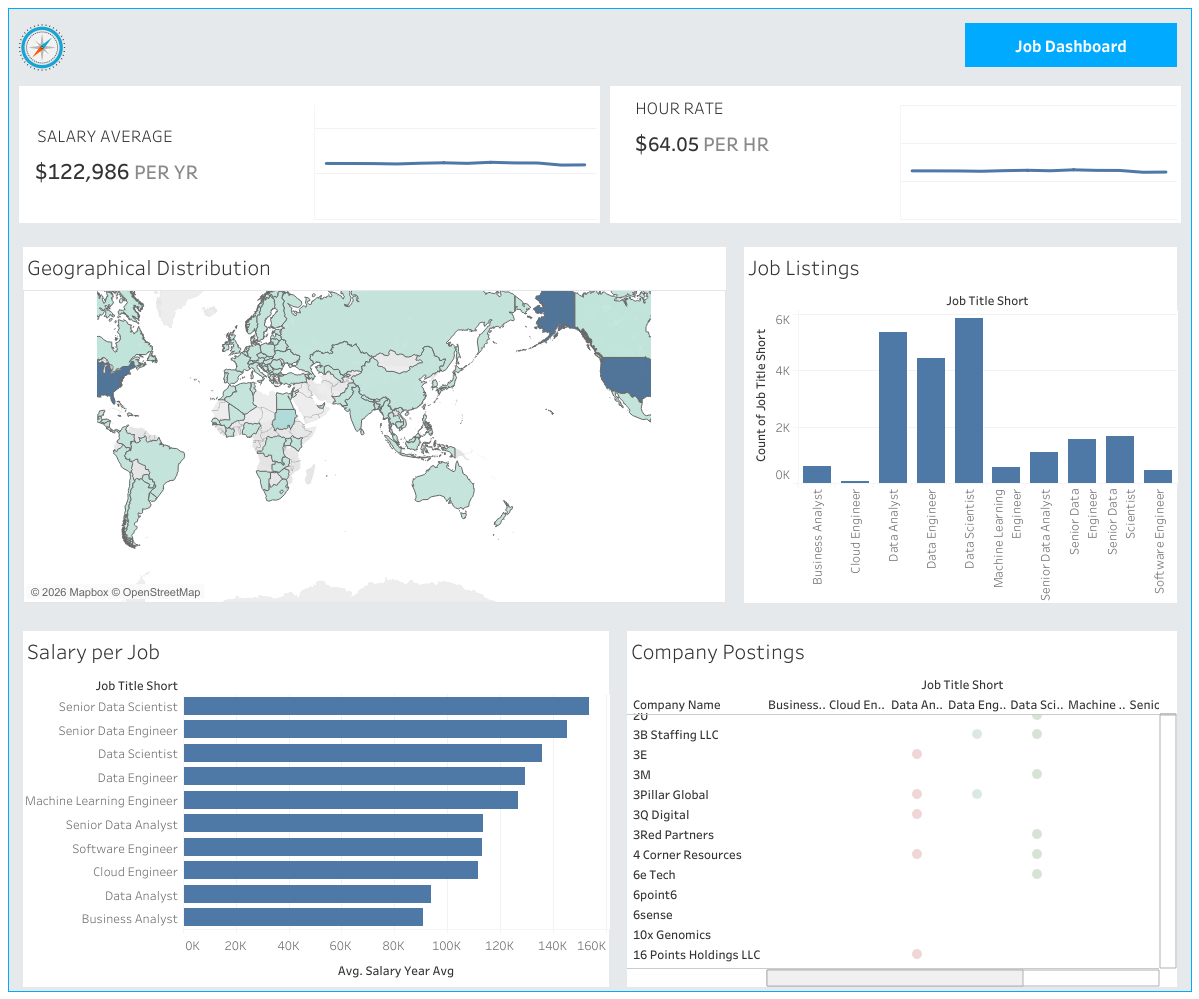

The dashboard page shown, as its layout file describes it:
{"tool":"tableau","page":{"name":"Summary Dashboard","canvas":[1200,1000],"ordinal":1},"visuals":[{"type":"blank","box":[9,9,1182,10]},{"type":"image","param":"Image/Icon - Logo.png","box":[9,19,75,57]},{"type":"blank","box":[84,19,877,57]},{"type":"dashboard-object","box":[961,19,220,52]},{"type":"blank","box":[9,76,1182,10]},{"type":"blank","box":[9,86,10,137]},{"type":"worksheet","title":"Salary KPI","mark":"Automatic","box":[19,86,291,137]},{"type":"worksheet","title":"Salary Average","mark":"Automatic","rows":["salary_year_avg"],"cols":["job_posted_date"],"box":[310,86,290,137]},{"type":"blank","box":[600,86,10,137]},{"type":"worksheet","title":"Hour Rate KPI ","mark":"Text","box":[610,86,286,137]},{"type":"worksheet","title":"Hour Rate","mark":"Automatic","rows":["salary_hour_avg"],"cols":["job_posted_date"],"box":[896,86,285,137]},{"type":"blank","box":[1181,86,10,137]},{"type":"blank","box":[9,223,1182,20]},{"type":"blank","box":[9,243,10,364]},{"type":"worksheet","title":"Map Summary","mark":"Multipolygon","box":[19,243,711,364]},{"type":"blank","box":[730,243,10,364]},{"type":"worksheet","title":"Job Listings","mark":"Automatic","rows":["job_title_short"],"cols":["job_title_short"],"box":[740,243,440.9,364]},{"type":"blank","box":[1180.9,243,10,364]},{"type":"blank","box":[9,607,1182,20]},{"type":"blank","box":[9,627,10,364]},{"type":"worksheet","title":"Job Salary","mark":"Bar","rows":["job_title_short"],"cols":["salary_year_avg"],"box":[19,627,594,364]},{"type":"blank","box":[613,627,10,364]},{"type":"worksheet","title":"Company Listings","mark":"Circle","rows":["company_name"],"cols":["job_title_short"],"box":[623,627,558,364]},{"type":"blank","box":[1181,627,10,364]}]}

Visuals, with their boxes in screenshot pixels (x1, y1, x2, y2), scaled from the page's 1200x1000 canvas onto the 1199x999 screenshot:
blank: bbox(9, 9, 1190, 19)
image: bbox(9, 19, 84, 76)
blank: bbox(84, 19, 960, 76)
dashboard-object: bbox(960, 19, 1180, 71)
blank: bbox(9, 76, 1190, 86)
blank: bbox(9, 86, 19, 223)
"Salary KPI" worksheet: bbox(19, 86, 310, 223)
"Salary Average" worksheet: bbox(310, 86, 600, 223)
blank: bbox(600, 86, 609, 223)
"Hour Rate KPI " worksheet (Text marks): bbox(609, 86, 895, 223)
"Hour Rate" worksheet: bbox(895, 86, 1180, 223)
blank: bbox(1180, 86, 1190, 223)
blank: bbox(9, 223, 1190, 243)
blank: bbox(9, 243, 19, 606)
"Map Summary" worksheet (Multipolygon marks): bbox(19, 243, 729, 606)
blank: bbox(729, 243, 739, 606)
"Job Listings" worksheet: bbox(739, 243, 1180, 606)
blank: bbox(1180, 243, 1190, 606)
blank: bbox(9, 606, 1190, 626)
blank: bbox(9, 626, 19, 990)
"Job Salary" worksheet (Bar marks): bbox(19, 626, 612, 990)
blank: bbox(612, 626, 622, 990)
"Company Listings" worksheet (Circle marks): bbox(622, 626, 1180, 990)
blank: bbox(1180, 626, 1190, 990)
